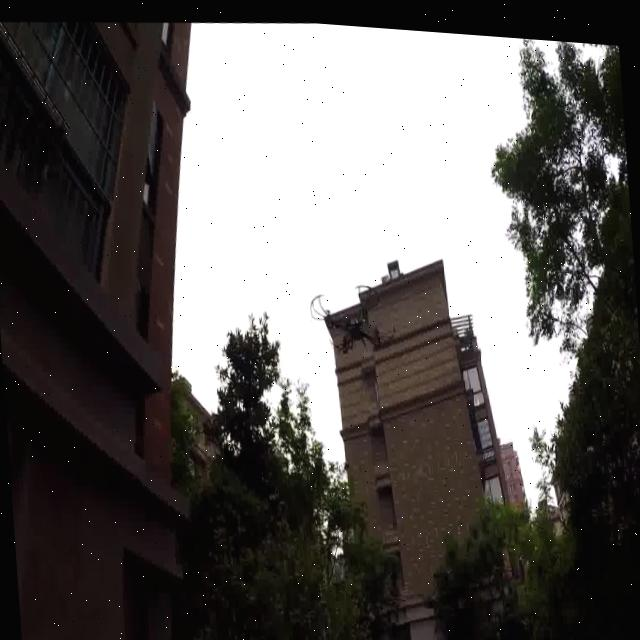drone: (300, 270, 392, 379)
